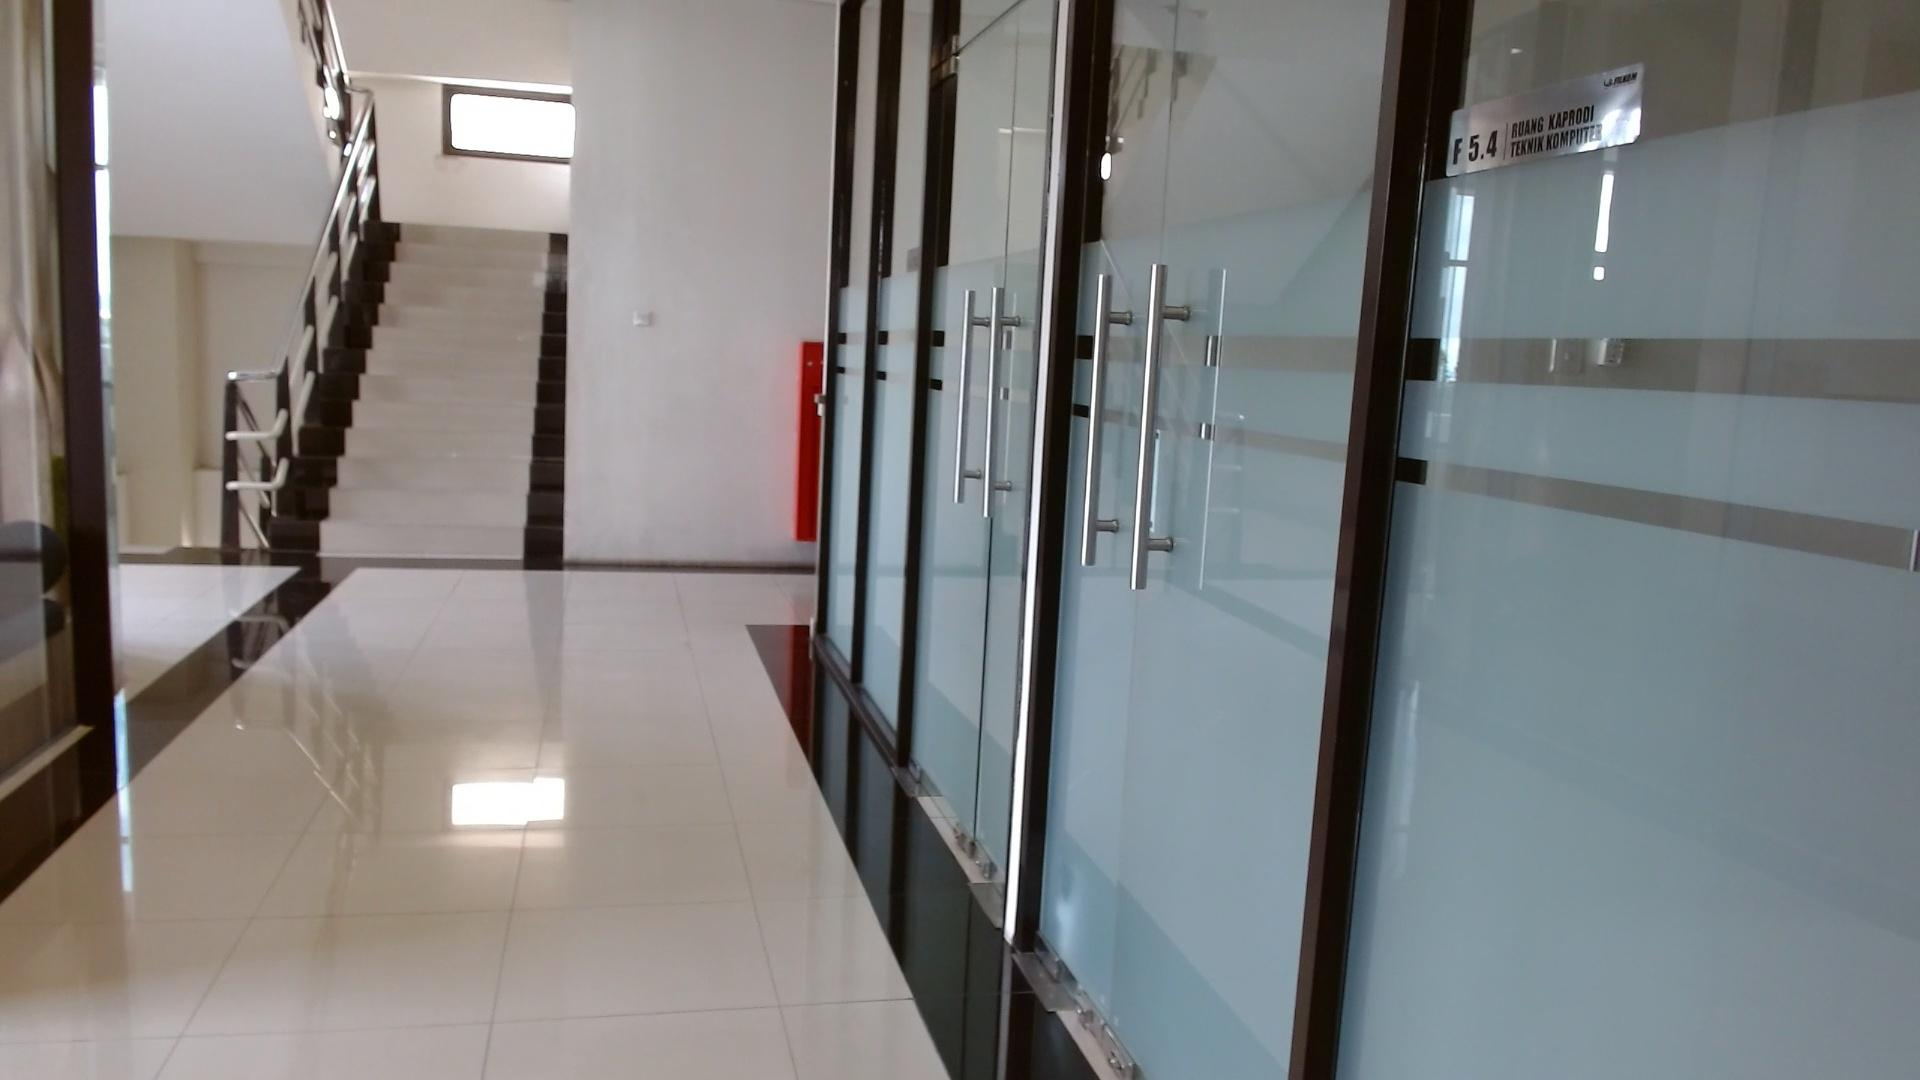plate: (1445, 62, 1644, 177)
